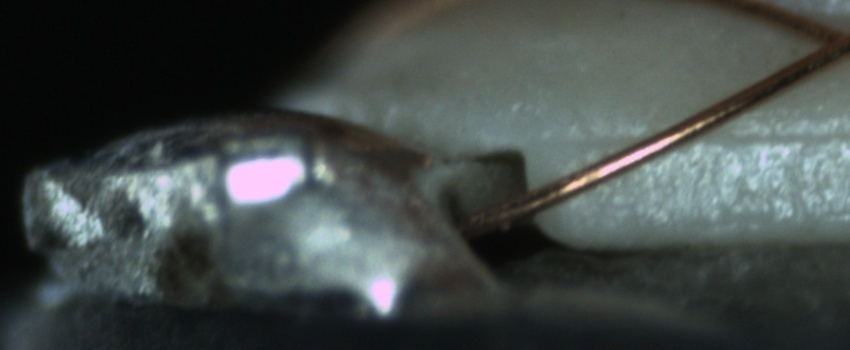CL: (796, 12, 850, 72)
DL: (566, 106, 850, 169)
